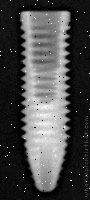Neodent: (19, 11, 71, 193)
